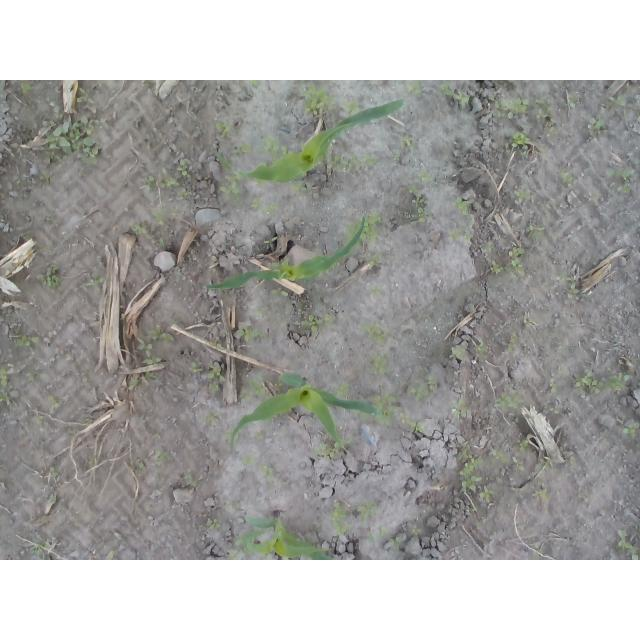Maize: (238, 99, 404, 182), (229, 371, 379, 450), (208, 215, 365, 289), (244, 508, 335, 560)
Weeds: (41, 116, 104, 166), (136, 327, 177, 366), (298, 80, 338, 116), (574, 370, 631, 395), (485, 93, 530, 119), (330, 153, 382, 175), (402, 184, 428, 225), (459, 446, 482, 491), (256, 135, 295, 161), (406, 372, 439, 401), (143, 167, 178, 192), (439, 83, 469, 111), (368, 392, 401, 416), (238, 375, 267, 402), (492, 391, 528, 412), (206, 359, 227, 394), (607, 167, 634, 194), (617, 529, 640, 560), (449, 197, 475, 224), (38, 260, 63, 288), (329, 502, 350, 535), (359, 320, 385, 344), (509, 130, 529, 160), (304, 312, 337, 330), (509, 244, 529, 273), (16, 327, 41, 349), (221, 175, 242, 201), (399, 412, 426, 432), (535, 99, 553, 128), (484, 447, 511, 466), (237, 325, 265, 343), (365, 215, 384, 241), (358, 498, 379, 521), (152, 207, 176, 227), (367, 352, 385, 377), (0, 366, 12, 403), (251, 198, 277, 215), (560, 272, 577, 297), (131, 371, 161, 385), (315, 442, 338, 460), (81, 272, 104, 289), (590, 112, 610, 131), (215, 150, 233, 170), (451, 399, 471, 417), (513, 184, 531, 204), (339, 100, 361, 115), (446, 229, 470, 242), (216, 119, 233, 137), (182, 469, 199, 487), (76, 86, 94, 102), (336, 383, 353, 399), (408, 82, 425, 98), (270, 287, 292, 298), (343, 222, 358, 238), (49, 394, 64, 410), (480, 488, 496, 503), (154, 448, 169, 464), (175, 160, 189, 177), (513, 457, 527, 474), (527, 225, 545, 238), (260, 463, 273, 481), (488, 259, 504, 273), (32, 543, 49, 556), (361, 255, 383, 265), (606, 94, 624, 106), (622, 424, 636, 439), (129, 222, 145, 235), (50, 464, 63, 480), (209, 338, 226, 350), (40, 174, 57, 186), (507, 332, 517, 352), (19, 80, 33, 94), (418, 169, 432, 182), (548, 381, 561, 395), (560, 171, 573, 185), (243, 454, 257, 467), (206, 519, 222, 530), (190, 361, 202, 375), (517, 438, 529, 452), (543, 456, 553, 472), (401, 135, 415, 146), (238, 143, 252, 154), (533, 488, 549, 497), (264, 237, 277, 248), (407, 527, 421, 537), (177, 191, 189, 202), (379, 526, 390, 538), (227, 549, 238, 560), (390, 534, 400, 546), (566, 95, 578, 105), (451, 347, 467, 354), (369, 288, 385, 295), (391, 151, 402, 161), (159, 239, 169, 250), (34, 415, 44, 426), (104, 549, 114, 560), (475, 344, 487, 353), (523, 317, 532, 328), (135, 464, 146, 473), (140, 80, 152, 88), (366, 533, 374, 545), (207, 414, 217, 423), (47, 215, 56, 225), (240, 88, 249, 97), (299, 304, 308, 313), (569, 456, 578, 465), (255, 432, 265, 440), (255, 307, 262, 317), (250, 81, 258, 88), (636, 443, 640, 449)
